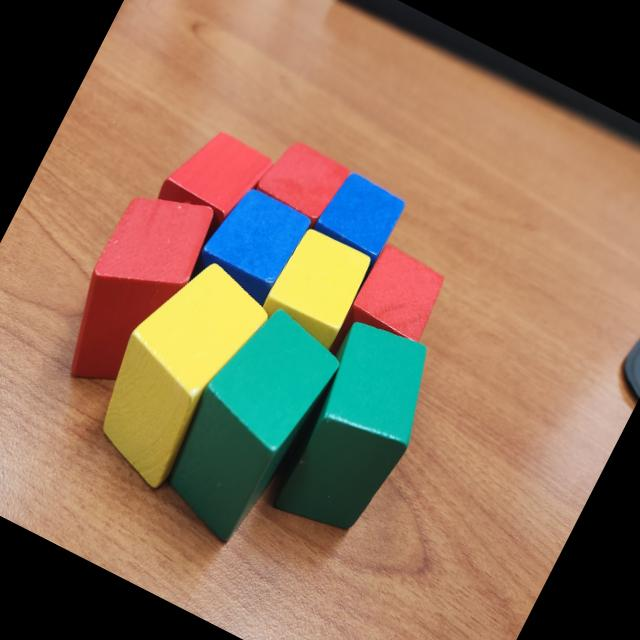blue: (185, 180, 316, 322), (292, 167, 408, 300)
green: (144, 294, 352, 556), (260, 311, 454, 552)
red: (44, 172, 226, 406), (126, 116, 277, 292), (338, 240, 452, 360), (250, 132, 354, 232)
yellow: (72, 244, 281, 504), (256, 224, 379, 356)
